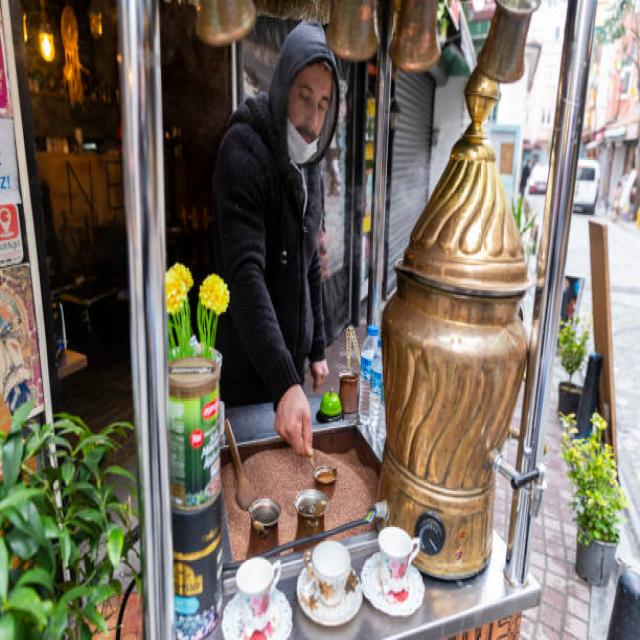Emperan: (109, 0, 596, 640)
